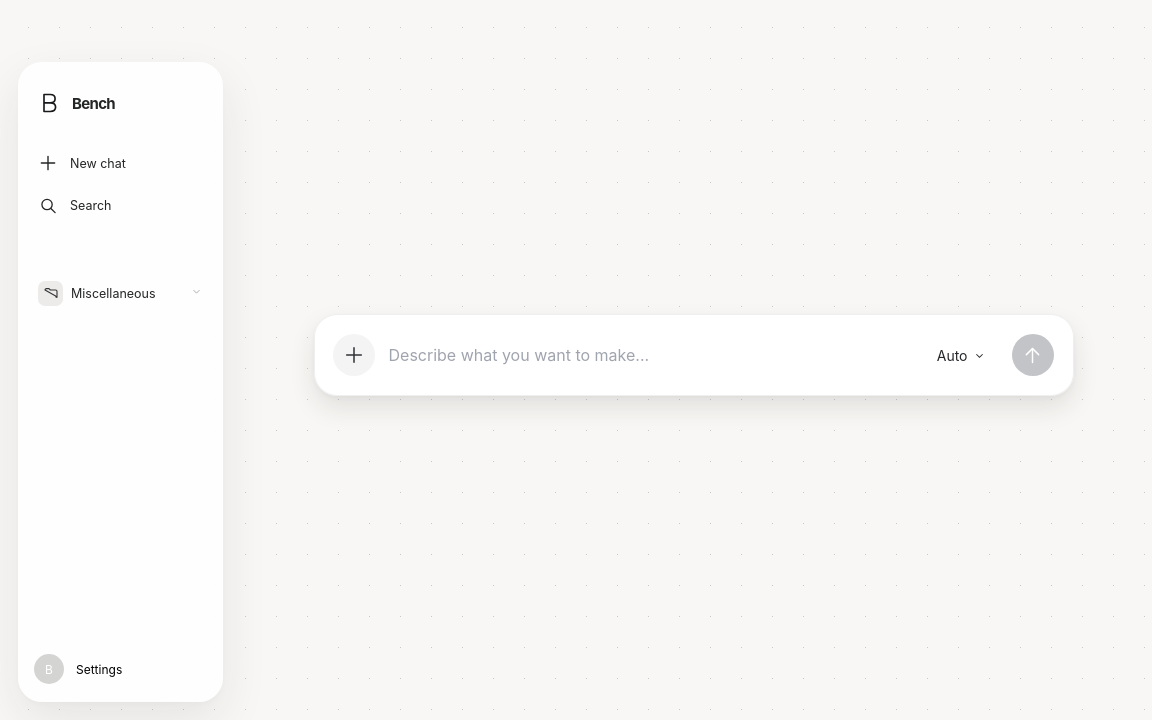
Test: Web search settings › shows unavailable when OpenRouter is not the selected, connected provider
The width and height of the screenshot is (1152, 720).
Click the button "B Settings" at (120, 669), box [30,648,211,690]
(page scrolled)
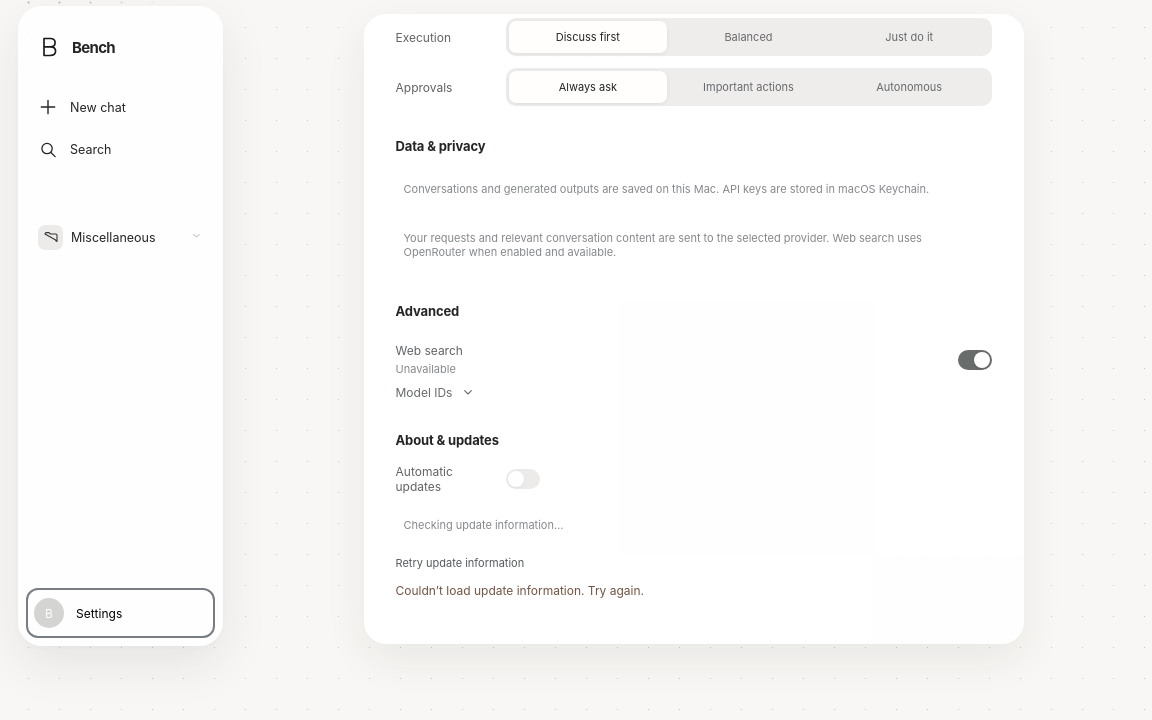
Expected: the text "Unavailable" is shown, [396,362,463,376]
